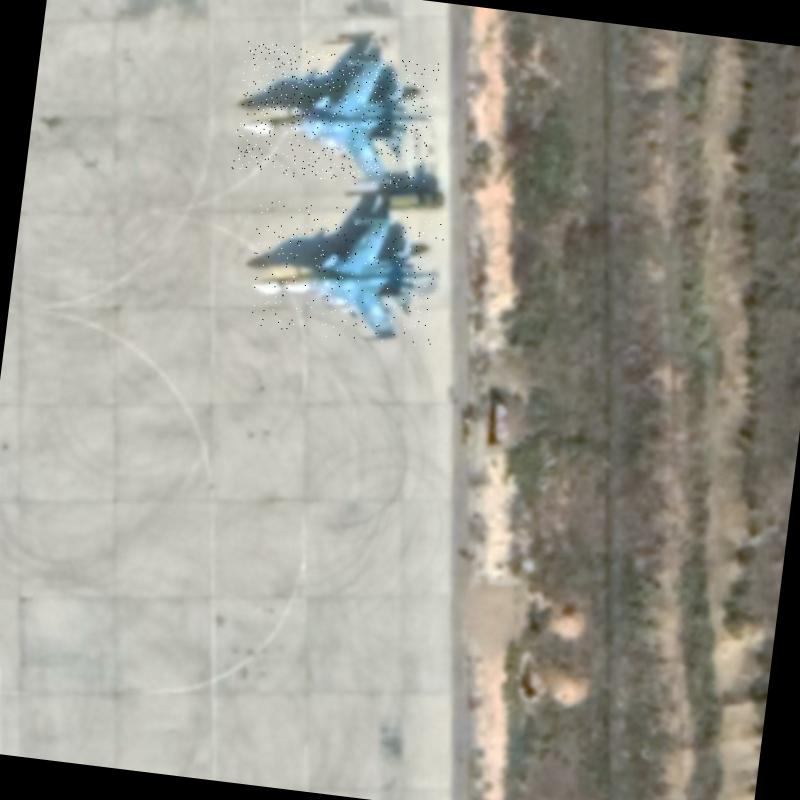A19: (231, 39, 439, 192), (242, 196, 446, 350)
